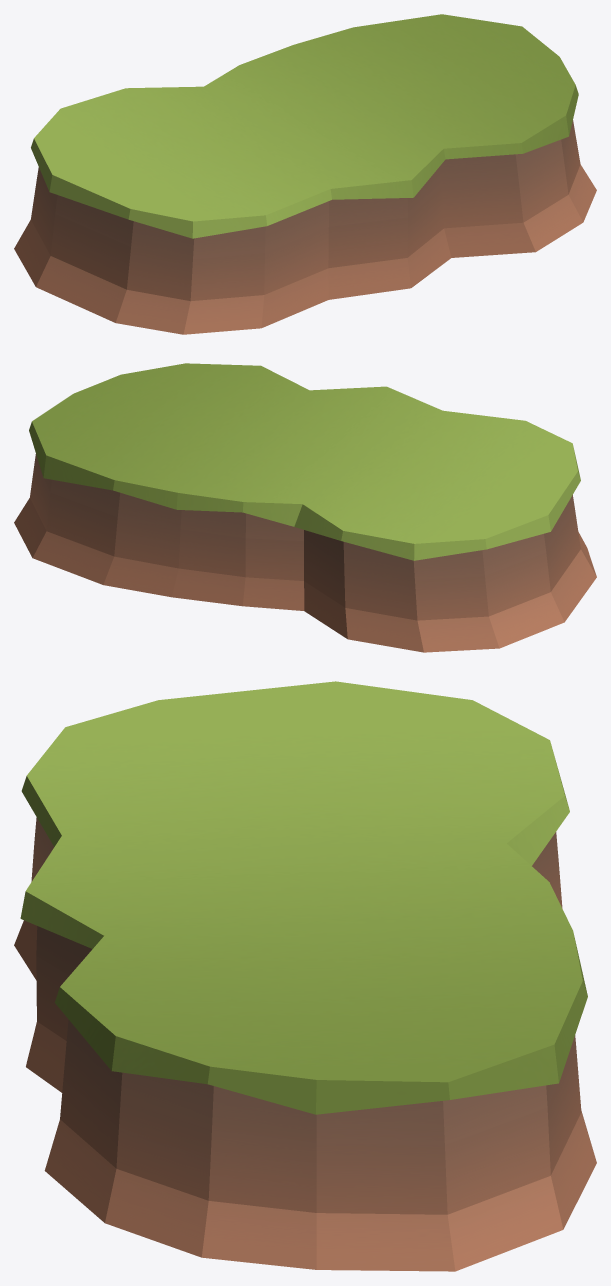
Rendered from cliff6.fbx.
3 renders of one model, top to bottom at view 1: azimuth 30°, elevation 25°; view 2: azimuth 150°, elevation 25°; view 3: azimuth 270°, elevation 25°, orthographic. The views are drawn at different scales.
Parts seen in each view (by area): view 1: cliff6; view 2: cliff6; view 3: cliff6.
Part boxes in pixels (left/top/right/bottom): cliff6: left=14, top=14, right=596, bottom=334; cliff6: left=14, top=363, right=596, bottom=652; cliff6: left=14, top=681, right=596, bottom=1271.
Bounding box in the file's own units: 7.94 × 1.53 × 4.58.
